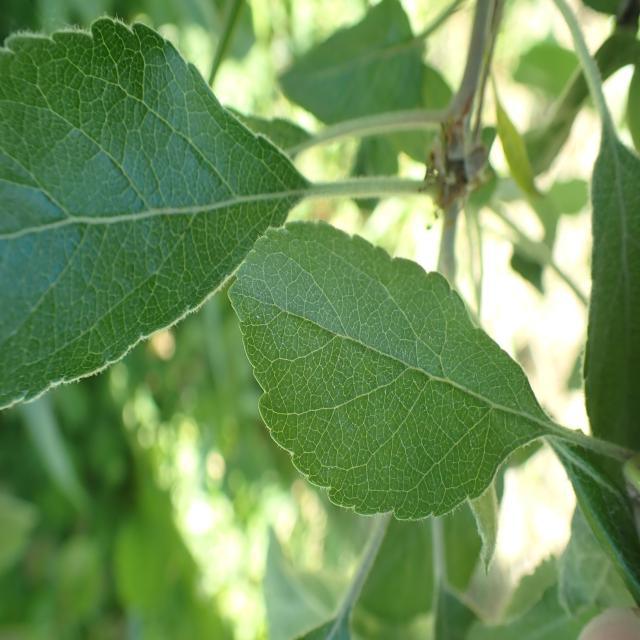healthy: (1, 16, 310, 408), (225, 219, 548, 523), (583, 122, 640, 454)
